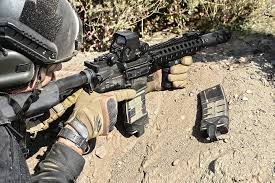gun: (1, 25, 234, 142)
